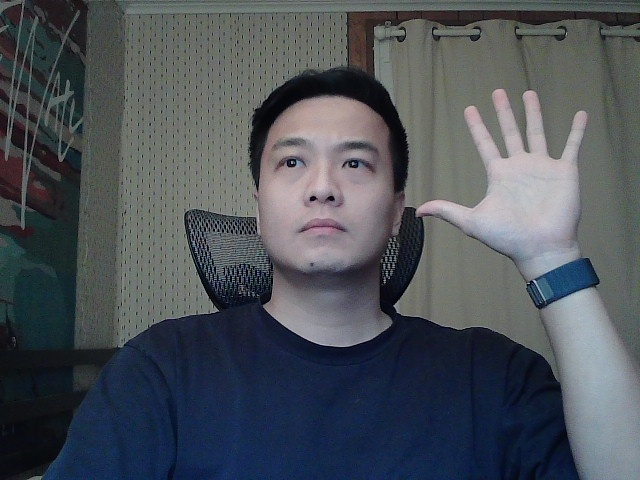Hello: (400, 82, 608, 277)
